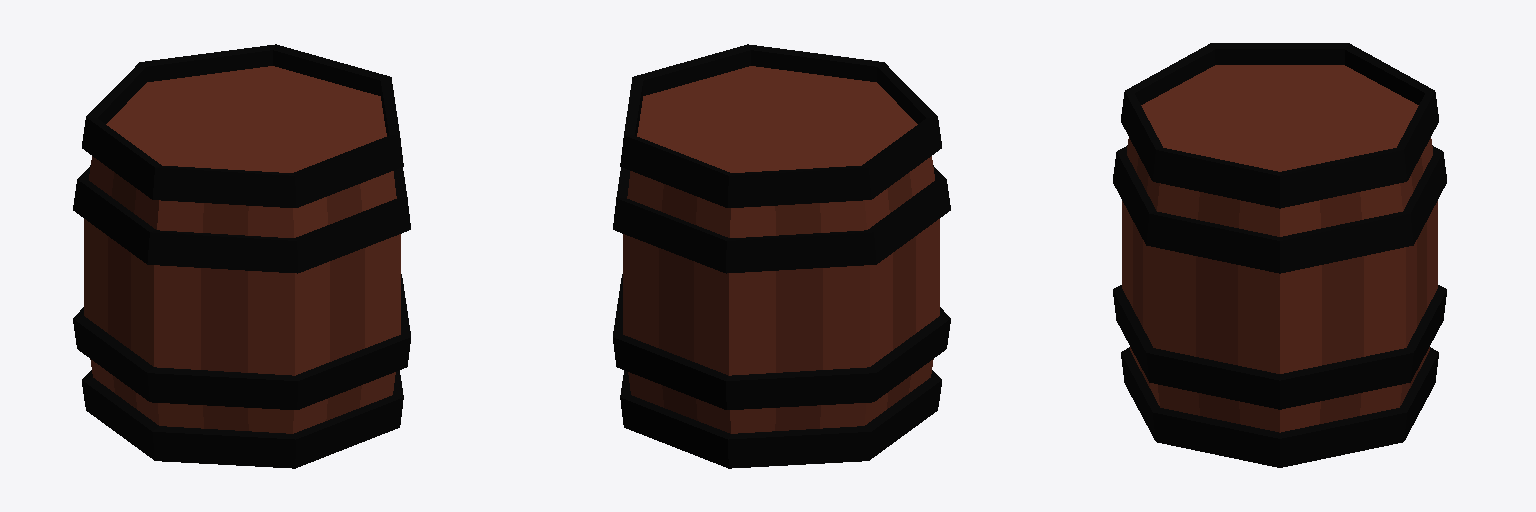
The model's file is Barrel.obj.
3 renders of one model, left to right at view 1: azimuth 30°, elevation 25°; view 2: azimuth 150°, elevation 25°; view 3: azimuth 270°, elevation 25°, orthographic.
Parts seen in each view (by area): view 1: pCylinder1; view 2: pCylinder1; view 3: pCylinder1.
Boxes of the visible parts, <box> form: pCylinder1: <box>73,44,410,468</box>; pCylinder1: <box>613,44,950,468</box>; pCylinder1: <box>1113,43,1446,467</box>.
Size of the model in its own units: 7.58 by 7.28 by 7.54.